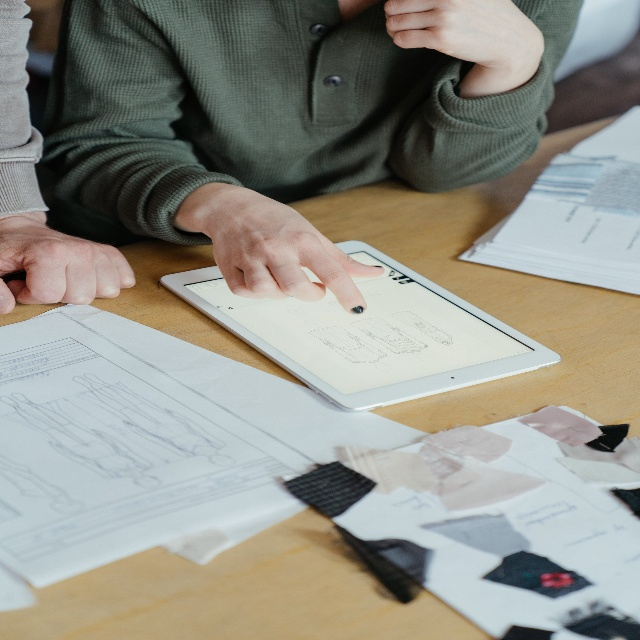Sin_guantes: (205, 185, 385, 315), (0, 214, 135, 316), (383, 0, 540, 68)
